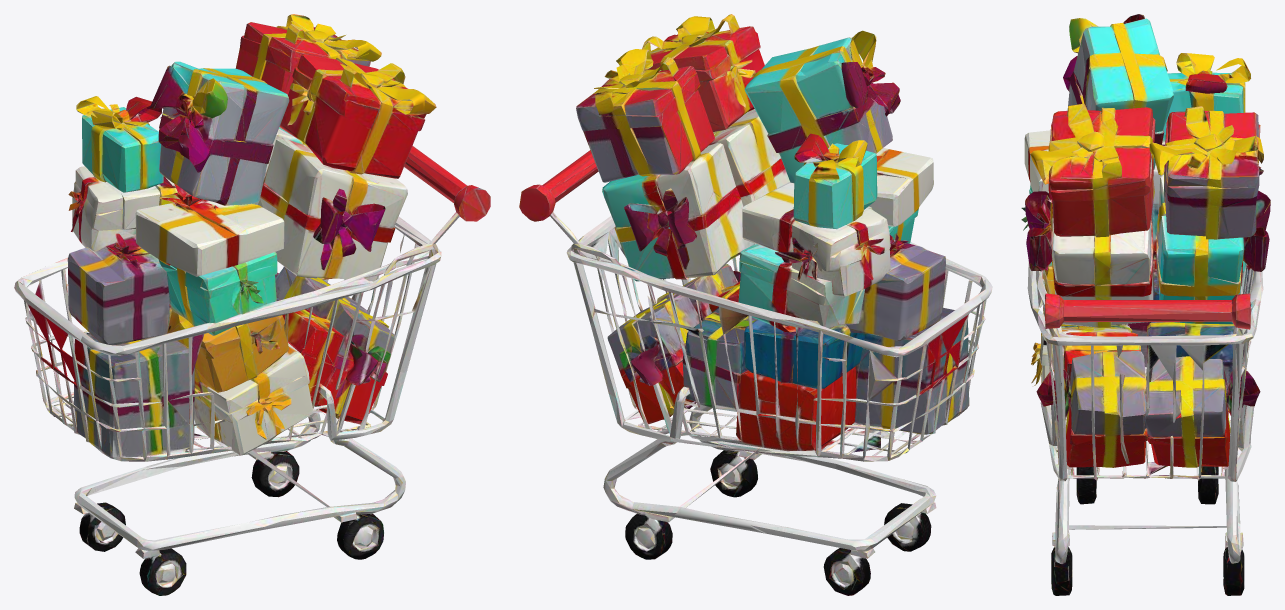
The model's file is cart.glb.
The picture shows the model from 3 angles, left to right: view 1: azimuth 30°, elevation 25°; view 2: azimuth 150°, elevation 25°; view 3: azimuth 270°, elevation 25°; orthographic projection.
Bounding box in the file's own units: 1.52 × 1.9 × 0.8447.
1 material, 1 textured.
